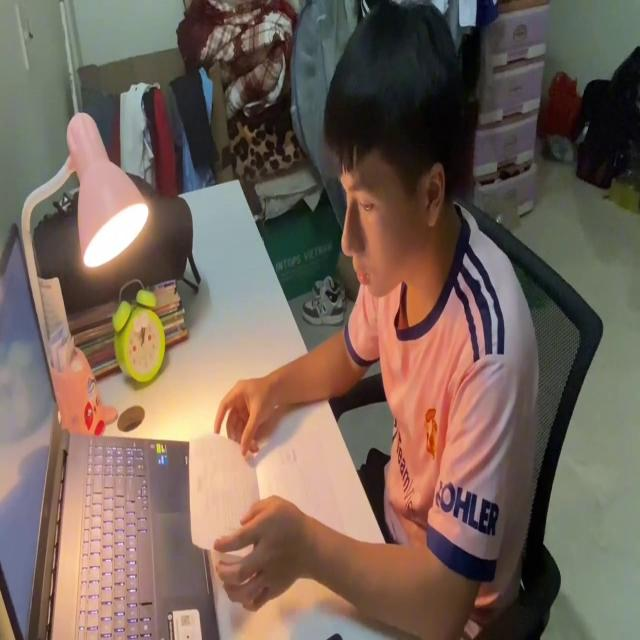book: (181, 429, 344, 549)
laptop: (1, 221, 218, 640)
student: (216, 0, 542, 640)
